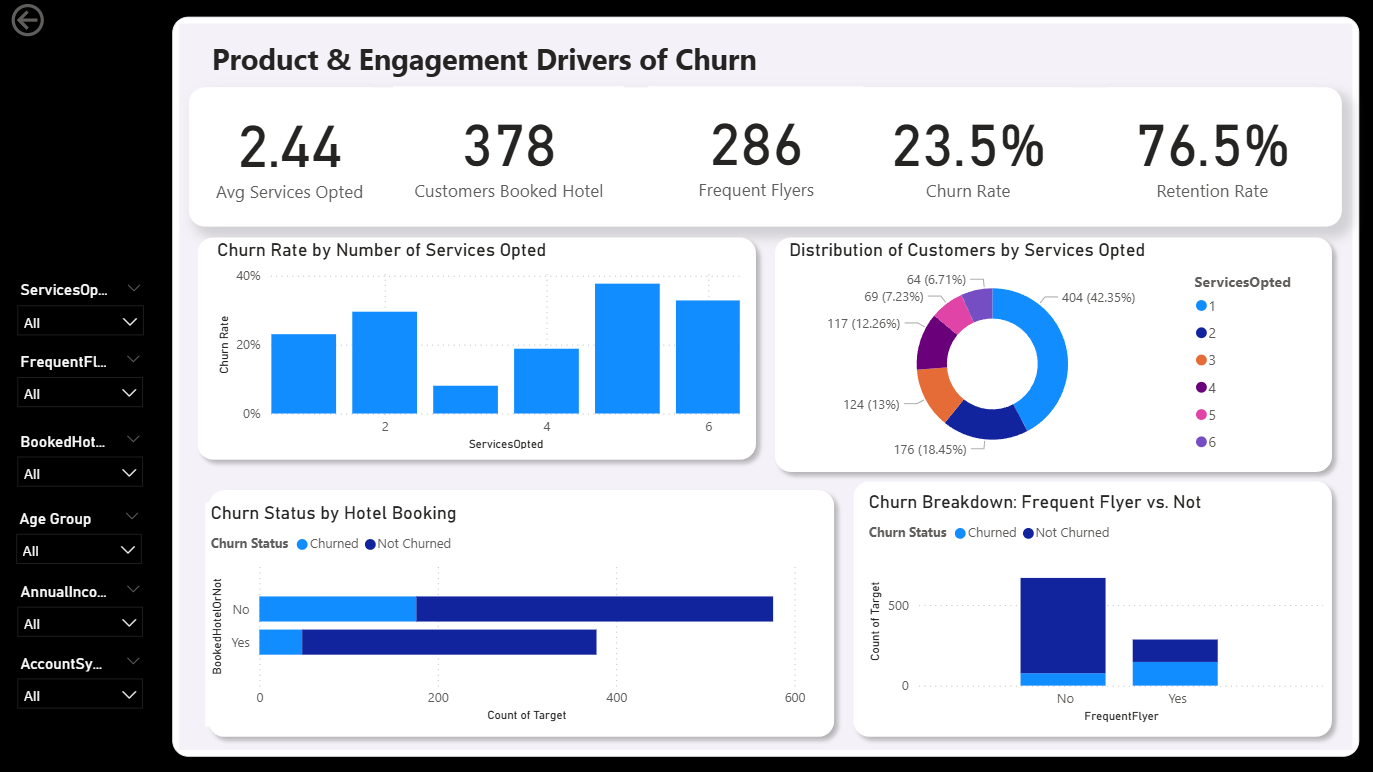

Layout of this report page (visuals, bound fields, positions):
{"tool":"powerbi","page":{"name":"Product & Engagement Page","canvas":[1280,720],"ordinal":2},"visuals":[{"type":"shape","box":[917.3,229,330.5,242.7],"z":0},{"type":"shape","box":[488.9,223.4,428.5,225.6],"z":1000},{"type":"shape","box":[704.2,469.5,543.6,226.8],"z":2000},{"type":"shape","box":[160,16,1104,688],"z":3000},{"type":"shape","box":[175.5,82,1072.3,129.9],"z":4000},{"type":"shape","box":[711.2,212.5,536.2,236.2],"z":5000},{"type":"shape","box":[175,212.5,537.5,225],"z":6000},{"type":"shape","box":[784.6,439.5,463.1,255.7],"z":7000},{"type":"shape","box":[185,447.5,600,247.5],"z":7500},{"type":"textbox","box":[192,31.8,561.7,63.7],"z":8000},{"type":"actionButton","box":[5.8,0.4,100,40],"z":9000},{"type":"slicer","fields":{"Values":["customer_churn_scored.Age Group"]},"box":[5.4,469,136.7,68.3],"z":10000},{"type":"card","fields":{"Values":["KPI_Summary.Avg Services Opted"]},"box":[191.4,82,156.1,116.2],"z":11000},{"type":"slicer","fields":{"Values":["customer_churn_scored.AnnualIncomeClass"]},"box":[5.7,536.7,136.7,71.8],"z":12000},{"type":"card","fields":{"Values":["KPI_Summary.Customers Booked Hotel"]},"box":[365.6,81.1,214.6,116],"z":13000},{"type":"card","fields":{"Values":["KPI_Summary.Customers: Frequent Flyers"]},"box":[602.8,81.1,200.2,115],"z":14000},{"type":"card","fields":{"Values":["KPI_Summary.Churn Rate"]},"box":[803.1,82.2,194.1,114],"z":15000},{"type":"slicer","fields":{"Values":["customer_churn_scored.FrequentFlyer"]},"box":[5.7,323.6,136.7,74.1],"z":16000},{"type":"slicer","fields":{"Values":["customer_churn_scored.BookedHotelOrNot"]},"box":[5.7,397.7,136.7,74.1],"z":17000},{"type":"slicer","fields":{"Values":["customer_churn_scored.AccountSyncedToSocialMedia"]},"box":[5.7,604,136.7,74.1],"z":18000},{"type":"card","fields":{"Values":["KPI_Summary.Retention Rate"]},"box":[1030,82.2,194.1,114],"z":19000},{"type":"columnChart","title":"Churn Rate by Number of Services Opted","fields":{"Category":["customer_churn_scored.ServicesOpted"],"Y":["KPI_Summary.Churn Rate"]},"box":[197.5,223.8,496.2,200],"z":20000},{"type":"slicer","fields":{"Values":["customer_churn_scored.ServicesOpted"]},"box":[6.2,256.2,137.5,73.8],"z":21000},{"type":"donutChart","title":"Distribution of Customers by Services Opted","fields":{"Category":["customer_churn_scored.ServicesOpted"],"Y":["CountNonNull(customer_churn_scored.Target)"]},"box":[728.8,223.8,493.8,211.2],"z":22000},{"type":"barChart","title":"Churn Status by Hotel Booking","fields":{"Category":["customer_churn_scored.BookedHotelOrNot"],"Series":["customer_churn_scored.Churn Status"],"Y":["CountNonNull(customer_churn_scored.Target)"]},"box":[191.2,468.8,562.5,208.8],"z":23000},{"type":"columnChart","title":"Churn Breakdown: Frequent Flyer vs. Not","fields":{"Category":["customer_churn_scored.FrequentFlyer"],"Series":["customer_churn_scored.Churn Status"],"Y":["CountNonNull(customer_churn_scored.Target)"]},"box":[803.1,458,432.3,219.8],"z":24000}]}

Visuals, with their boxes on the page's 1280x720 design canvas (x1, y1, x2, y2). These are canvas units, not pixel positions in the 1373x772 screenshot, which may show the page scaled, cropped or inside an application window:
shape: locate(917, 229, 1248, 472)
shape: locate(489, 223, 917, 449)
shape: locate(704, 470, 1248, 696)
shape: locate(160, 16, 1264, 704)
shape: locate(176, 82, 1248, 212)
shape: locate(711, 212, 1247, 449)
shape: locate(175, 212, 712, 438)
shape: locate(785, 440, 1248, 695)
shape: locate(185, 448, 785, 695)
textbox: locate(192, 32, 754, 96)
actionButton: locate(6, 0, 106, 40)
slicer - customer_churn_scored.Age Group: locate(5, 469, 142, 537)
card - KPI_Summary.Avg Services Opted: locate(191, 82, 348, 198)
slicer - customer_churn_scored.AnnualIncomeClass: locate(6, 537, 142, 608)
card - KPI_Summary.Customers Booked Hotel: locate(366, 81, 580, 197)
card - KPI_Summary.Customers: Frequent Flyers: locate(603, 81, 803, 196)
card - KPI_Summary.Churn Rate: locate(803, 82, 997, 196)
slicer - customer_churn_scored.FrequentFlyer: locate(6, 324, 142, 398)
slicer - customer_churn_scored.BookedHotelOrNot: locate(6, 398, 142, 472)
slicer - customer_churn_scored.AccountSyncedToSocialMedia: locate(6, 604, 142, 678)
card - KPI_Summary.Retention Rate: locate(1030, 82, 1224, 196)
"Churn Rate by Number of Services Opted" columnChart: locate(198, 224, 694, 424)
slicer - customer_churn_scored.ServicesOpted: locate(6, 256, 144, 330)
"Distribution of Customers by Services Opted" donutChart: locate(729, 224, 1223, 435)
"Churn Status by Hotel Booking" barChart: locate(191, 469, 754, 678)
"Churn Breakdown: Frequent Flyer vs. Not" columnChart: locate(803, 458, 1235, 678)
